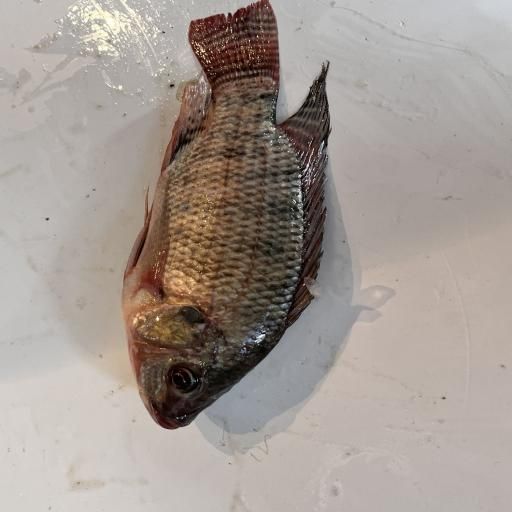Tilapia: (121, 0, 331, 430)
